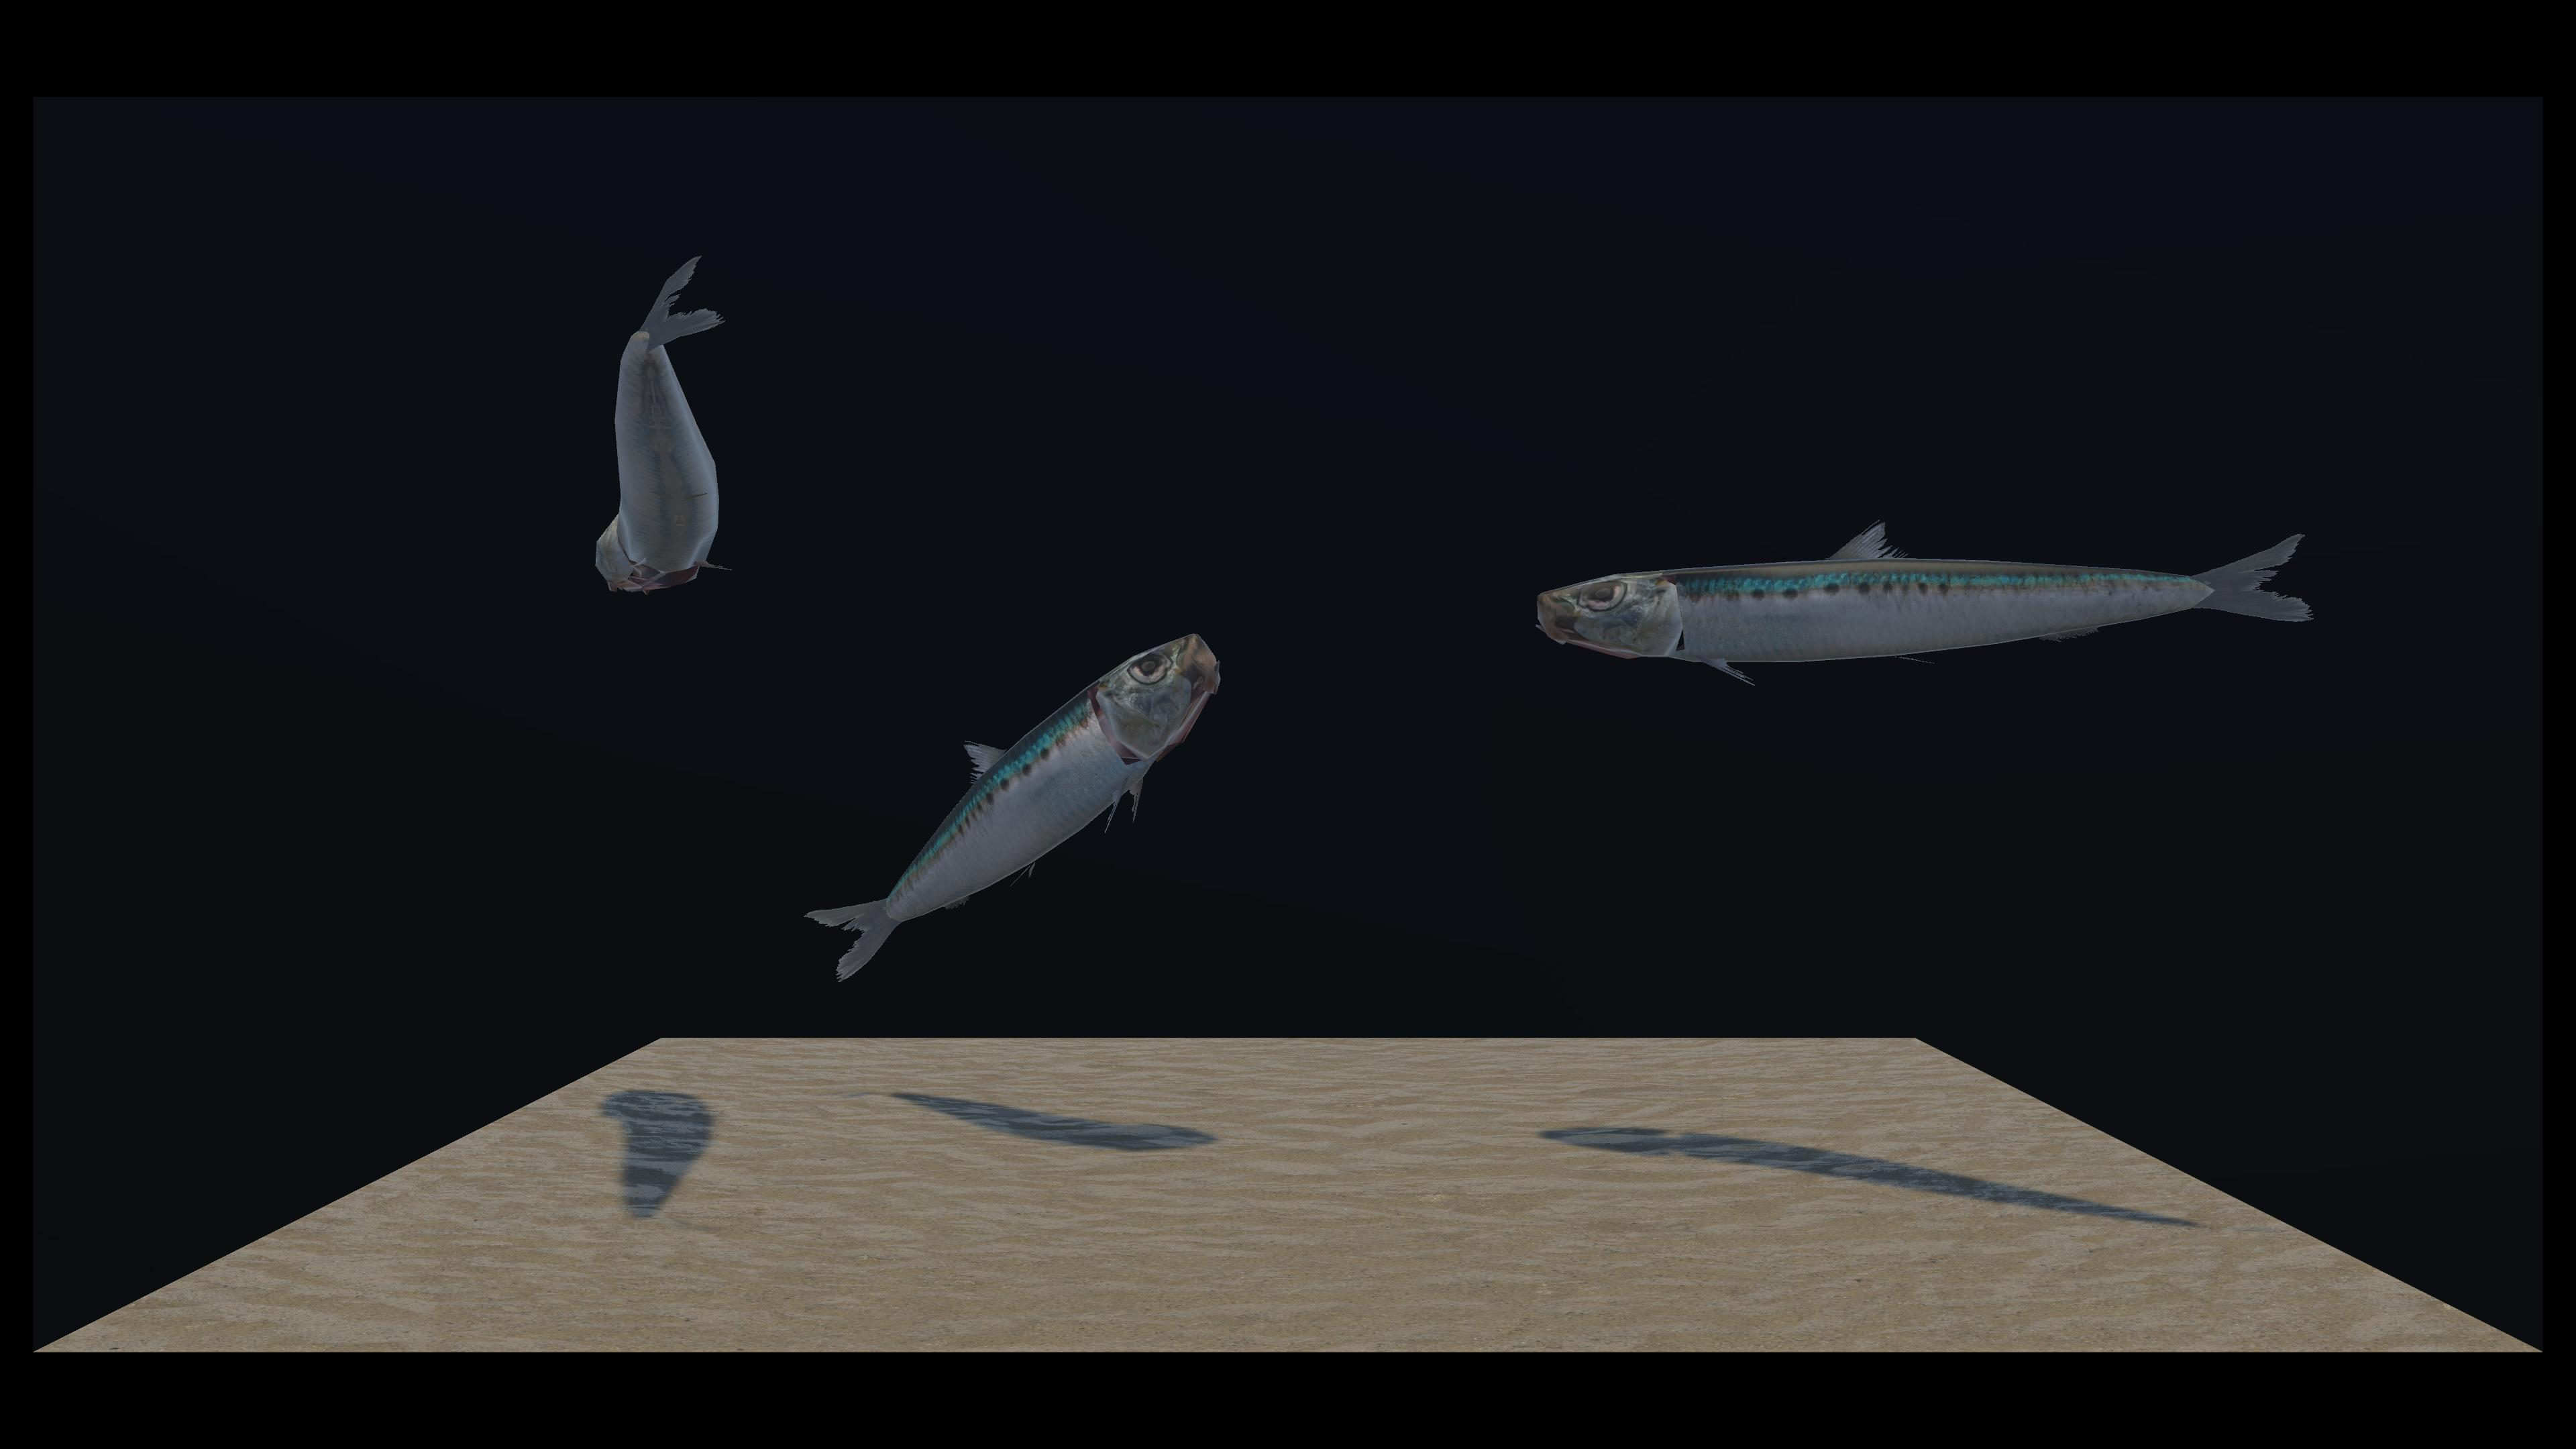Sardine_Front: (1035, 283, 2302, 697), (701, 621, 1191, 978), (582, 249, 867, 577)
